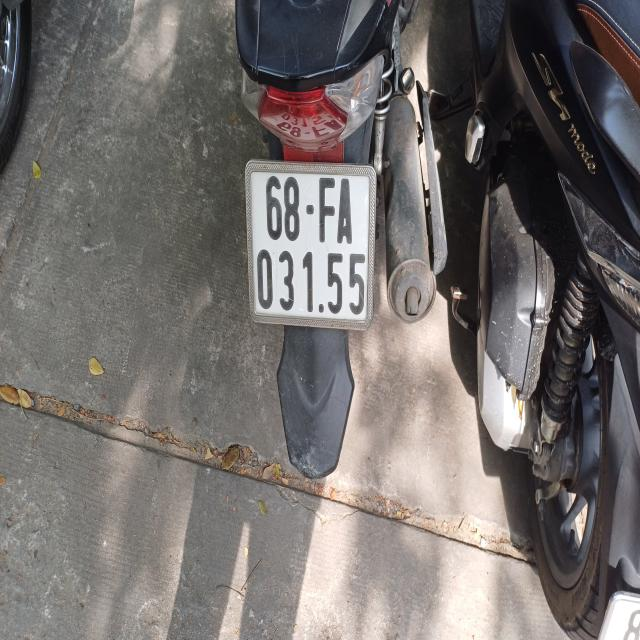0: (256, 248, 275, 310)
1: (302, 248, 316, 312)
3: (279, 250, 295, 312)
5: (348, 251, 366, 315), (327, 251, 343, 314)
6: (264, 174, 282, 240)
8: (284, 174, 299, 242)
A: (338, 177, 352, 245)
F: (319, 178, 335, 244)
